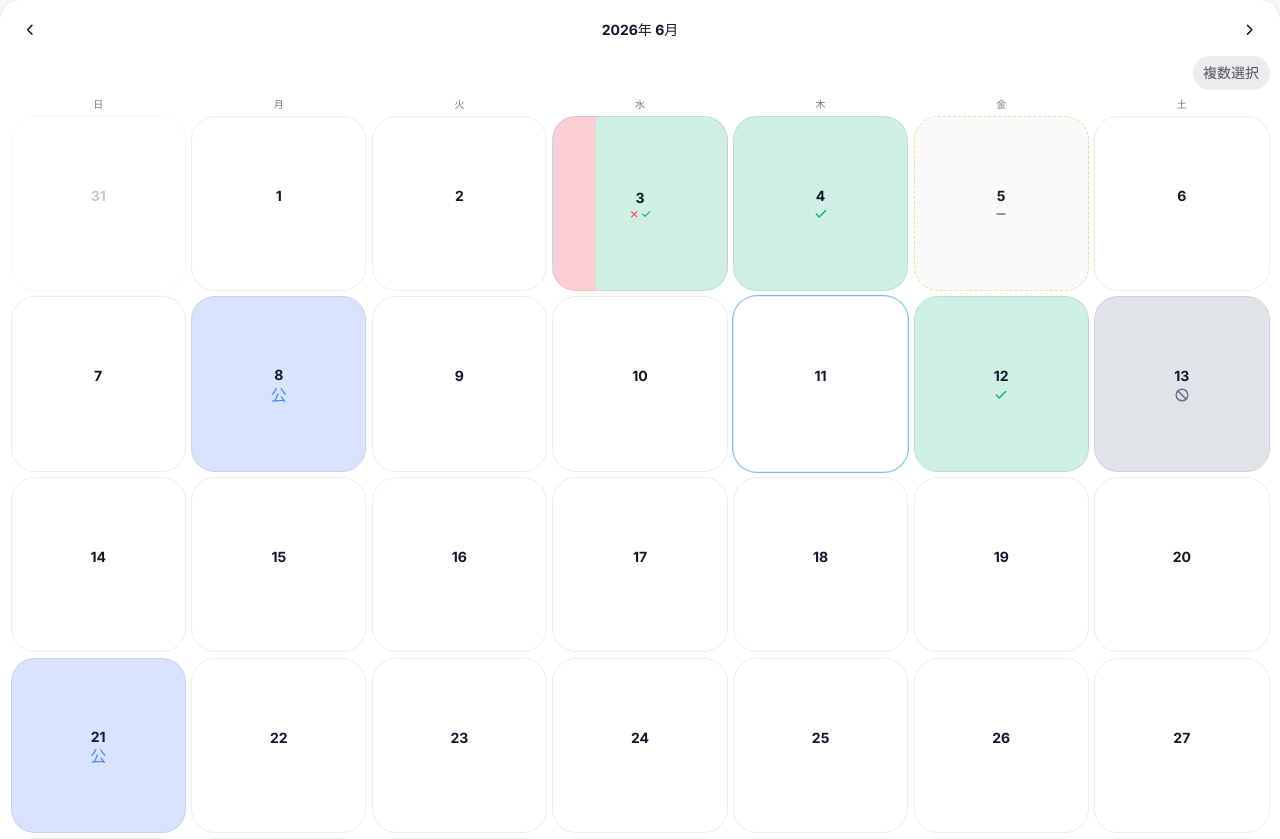
Test: AttendanceCalendar v2 › shows today button off the current month and returns to today's month
Click the button named "前の月" at (30, 30), box [10,10,49,49]
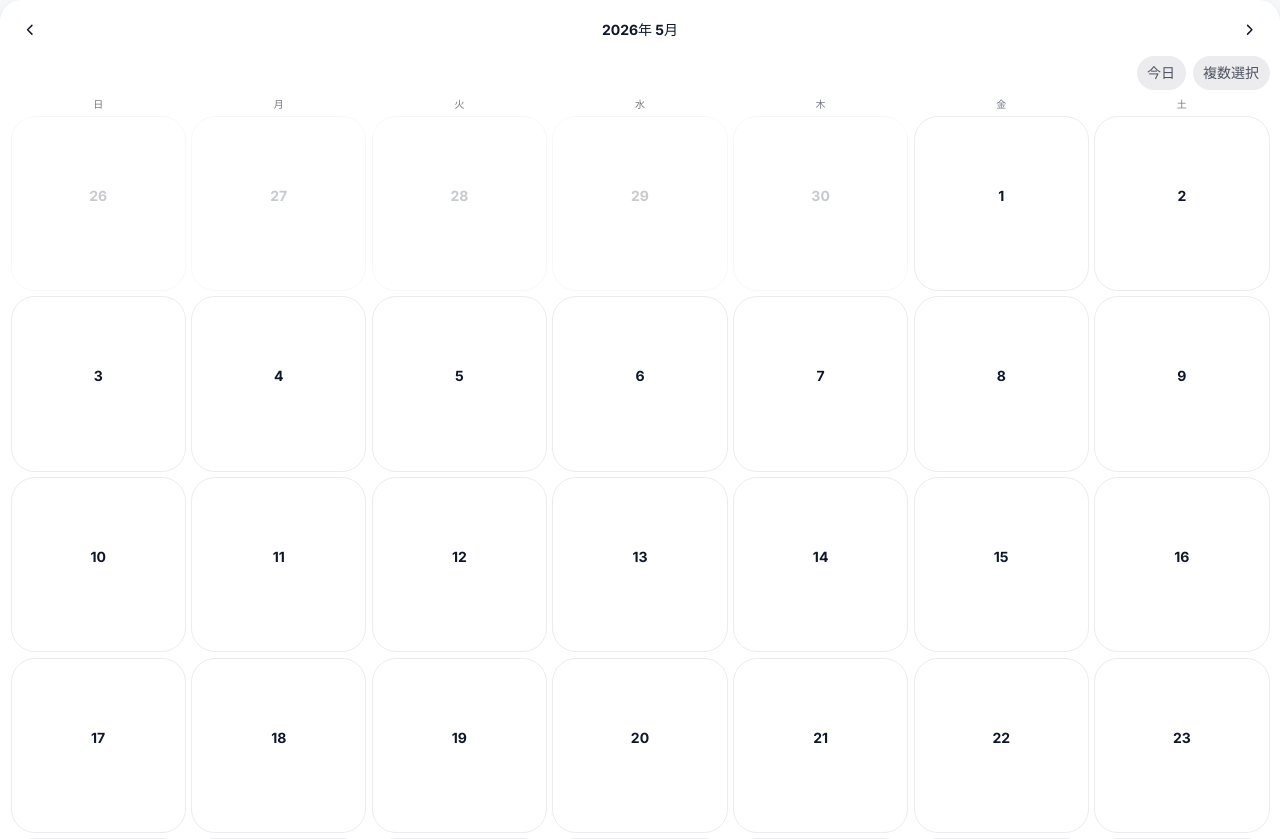
Expected: the button "今日" is shown
Click the button "今日" at (1161, 73), box [1136,56,1186,90]
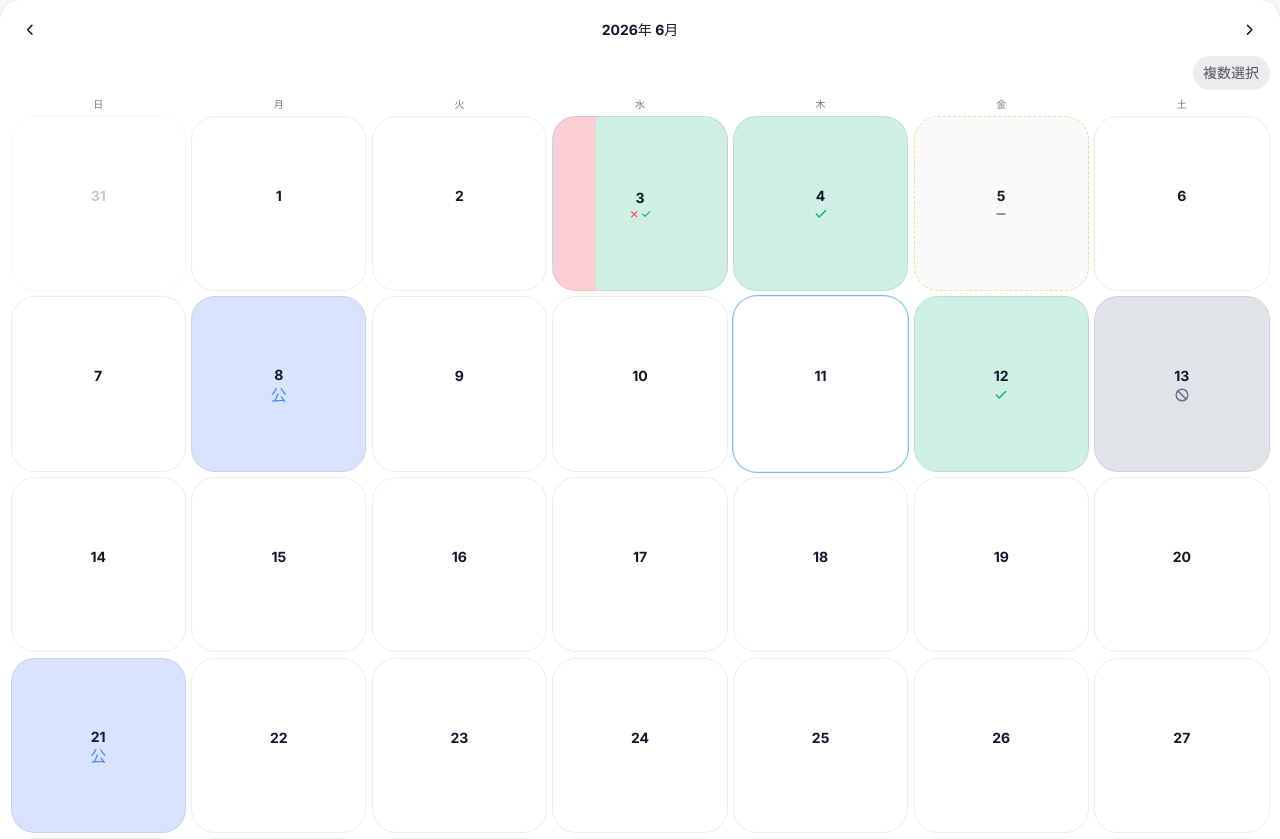
Expected: the heading "2026年 6月" is shown, [602,19,678,40]
Expected: the button "今日" is gone
